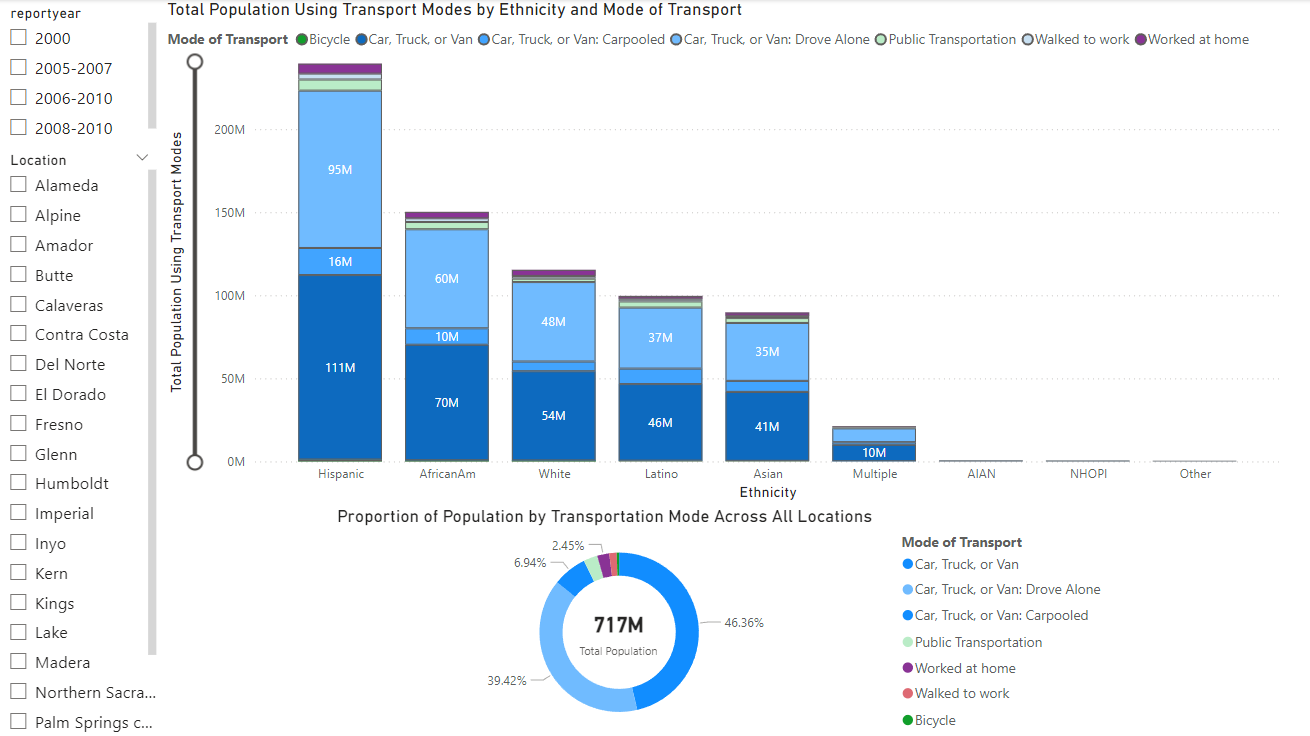

Layout of this report page (visuals, bound fields, positions):
{"tool":"powerbi","page":{"name":"Transport Data","canvas":[1280,720],"ordinal":0},"visuals":[{"type":"columnChart","fields":{"Category":["transportation (2).race_eth_name"],"Y":["Sum(transportation (2).pop_mode)"],"Series":["transportation (2).mode_name"]},"box":[160.5,0,1093.3,493.1],"z":0},{"type":"slicer","fields":{"Values":["transportation (2).reportyear"]},"box":[0,0,160.5,143],"z":1000},{"type":"pieChart","title":"Proportion of Population by Transportation Mode Across All Locations","fields":{"Category":["transportation (2).mode_name"],"Y":["Sum(transportation (2).pop_mode)"]},"box":[325.8,493.1,761.6,226.6],"z":2000},{"type":"card","fields":{"Values":["Sum(transportation (2).pop_mode)"]},"box":[559.3,586.5,90.5,58.4],"z":3000},{"type":"slicer","fields":{"Values":["transportation (2).geoname"]},"box":[0,143,160.5,576.8],"z":3001}]}

Visuals, with their boxes in screenshot pixels (x1, y1, x2, y2), scaled from the page's 1280x720 canvas onto the 1310x736 screenshot:
columnChart - transportation (2).race_eth_name x Sum(transportation (2).pop_mode): select_region(164, 0, 1283, 504)
slicer - transportation (2).reportyear: select_region(0, 0, 164, 146)
"Proportion of Population by Transportation Mode Across All Locations" pieChart: select_region(333, 504, 1113, 735)
card - Sum(transportation (2).pop_mode): select_region(572, 600, 665, 659)
slicer - transportation (2).geoname: select_region(0, 146, 164, 735)
